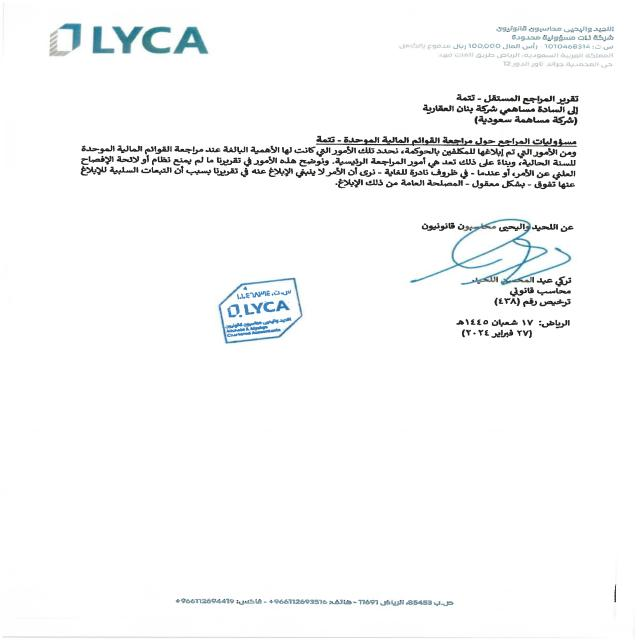auditor_report: (297, 134, 603, 147), (448, 94, 592, 103)
